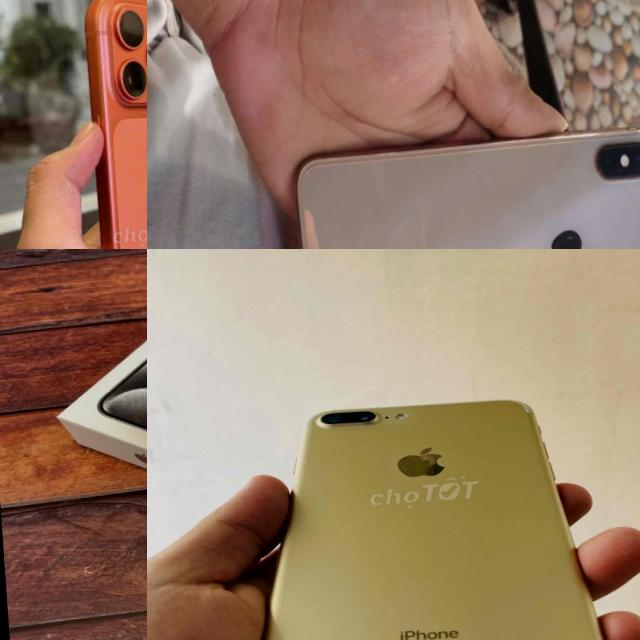gen_17: (73, 0, 147, 249)
gen_7_8: (262, 400, 601, 640)
gen_x_xs: (296, 130, 640, 249)
